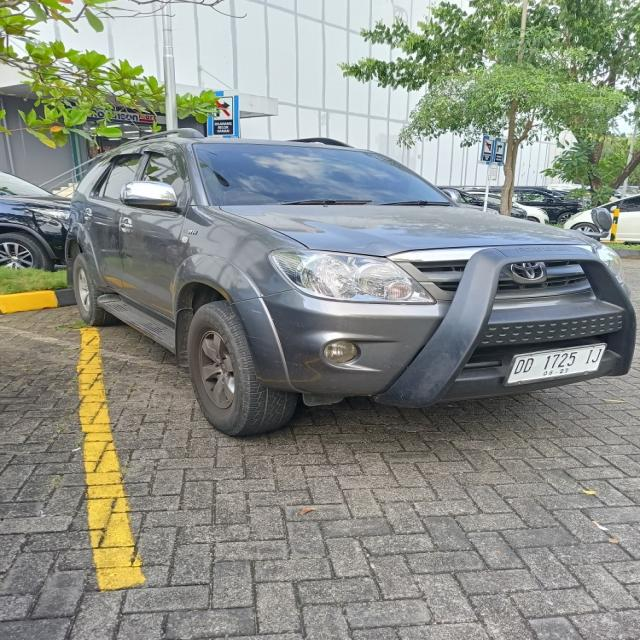plates: (501, 339, 606, 384)
